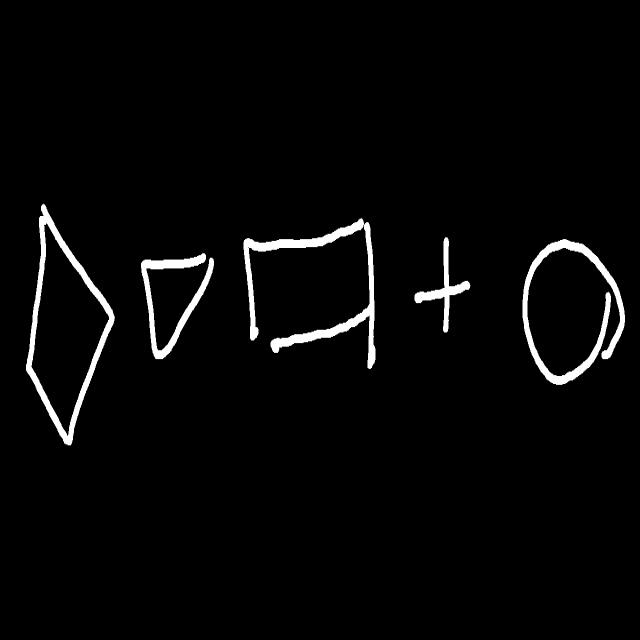circle: (522, 239, 624, 385)
cross: (414, 236, 470, 332)
diamond: (26, 205, 114, 445)
rectangle: (244, 219, 376, 368)
triangle: (26, 223, 114, 444), (142, 253, 214, 359)
